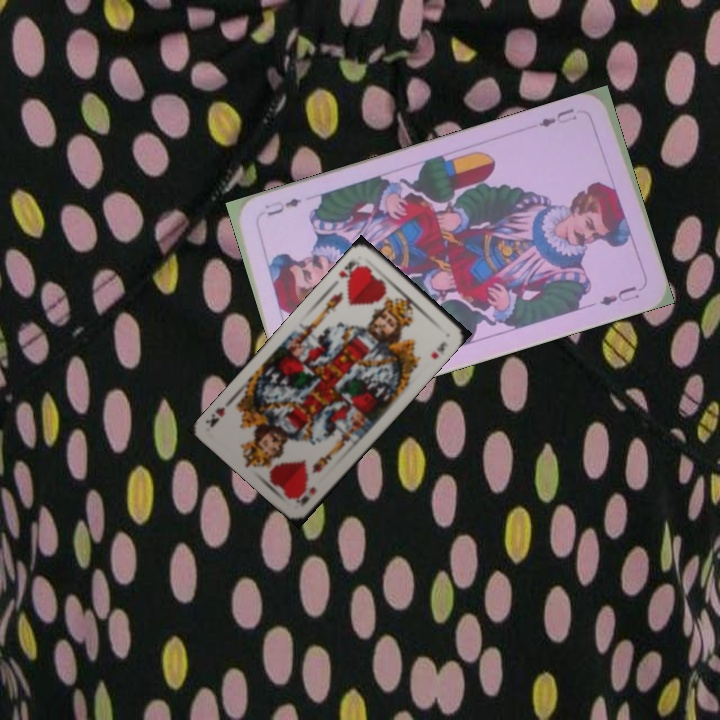EU: (535, 104, 580, 130)
HK: (334, 257, 365, 284), (292, 483, 319, 509)
